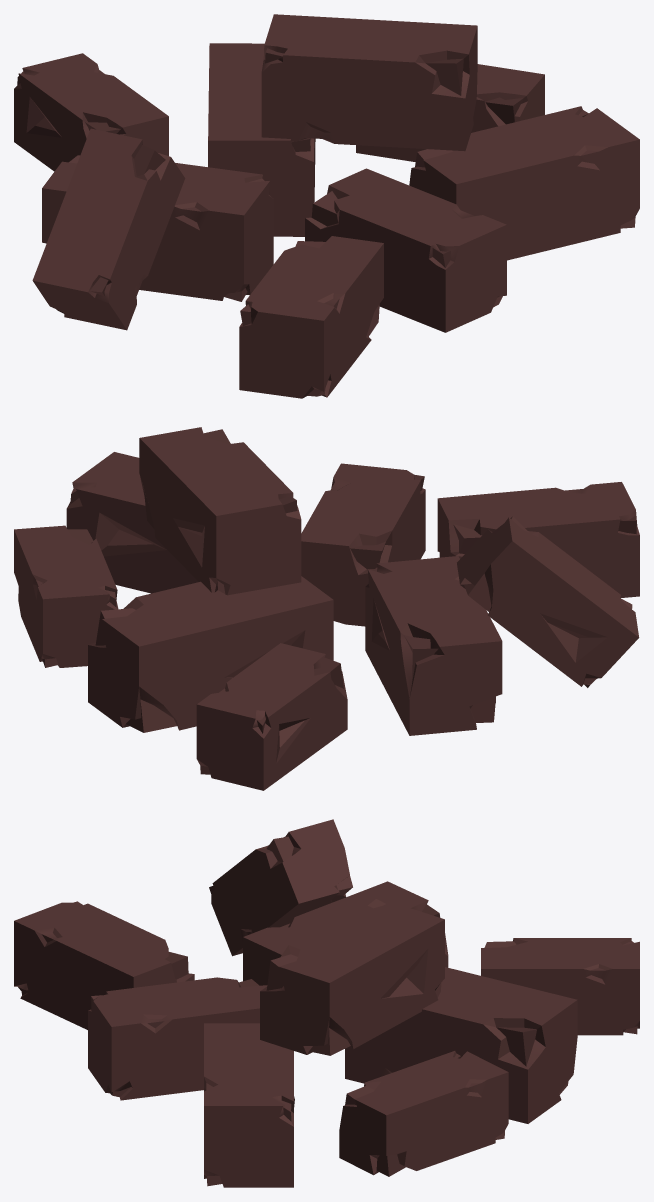
The model's file is 48_brick_pile1.fbx.
3 views of the same model, one above another, from view 1: azimuth 30°, elevation 25°; view 2: azimuth 150°, elevation 25°; view 3: azimuth 270°, elevation 25° (orthographic). The views are drawn at different scales.
Visible parts, largest first — view 1: pCube86; view 2: pCube86; view 3: pCube86.
Part boxes in pixels (x1,y1,x2,y2): pCube86: [14, 14, 639, 398]; pCube86: [14, 427, 639, 790]; pCube86: [14, 819, 639, 1187].
Size of the model in its own units: 1.29 by 0.3835 by 1.31.
